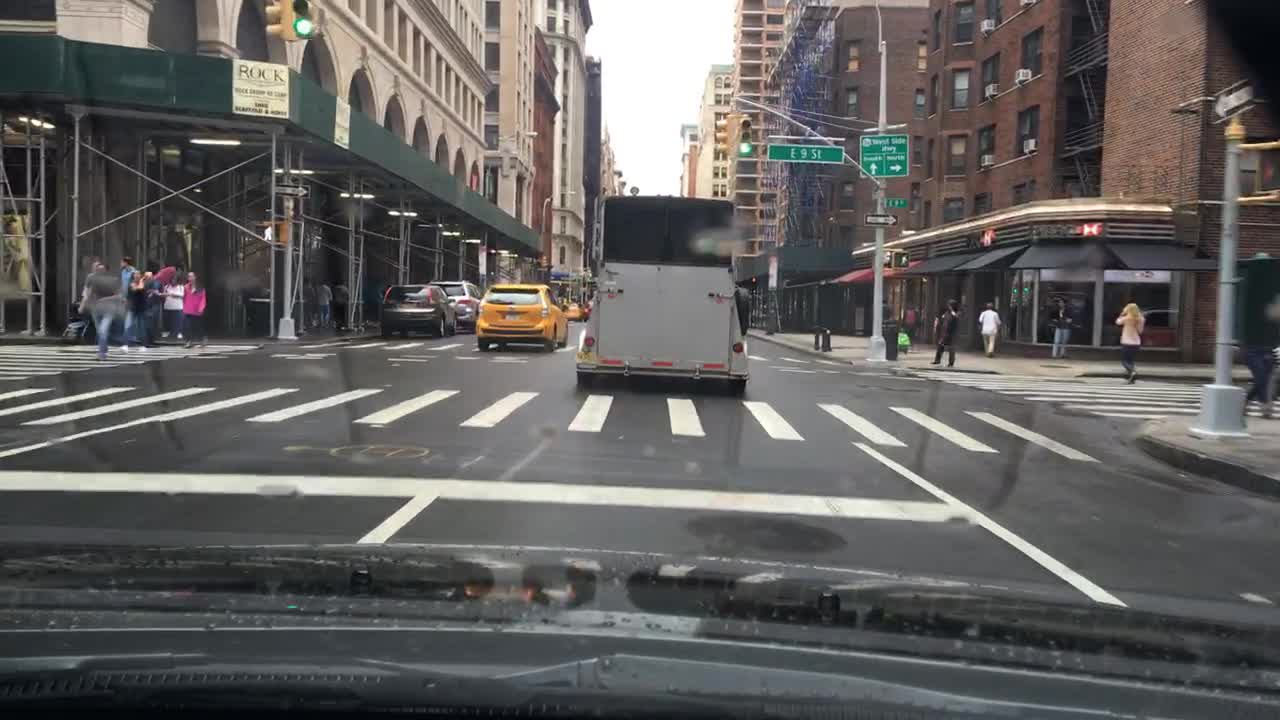bus: (575, 194, 754, 390)
car: (474, 282, 568, 351), (378, 282, 459, 337), (429, 278, 481, 329), (565, 302, 590, 321)
person: (1240, 253, 1278, 416), (77, 263, 126, 360), (1113, 303, 1147, 382), (929, 297, 961, 365), (183, 270, 208, 345), (161, 270, 183, 338), (1049, 299, 1073, 359), (978, 300, 1002, 359), (142, 273, 160, 348), (118, 256, 135, 330), (125, 270, 141, 342), (317, 278, 333, 330), (302, 277, 317, 330), (333, 279, 348, 327), (906, 303, 921, 346), (880, 297, 891, 322)
traffic light: (264, 1, 293, 41), (1255, 143, 1276, 194), (292, 1, 320, 39), (713, 115, 736, 155), (738, 117, 755, 154), (263, 219, 277, 244), (891, 252, 909, 269)
traffic sign: (858, 135, 910, 177), (767, 142, 844, 164), (1212, 83, 1252, 117), (274, 183, 310, 198), (865, 215, 898, 226), (884, 197, 907, 207)
